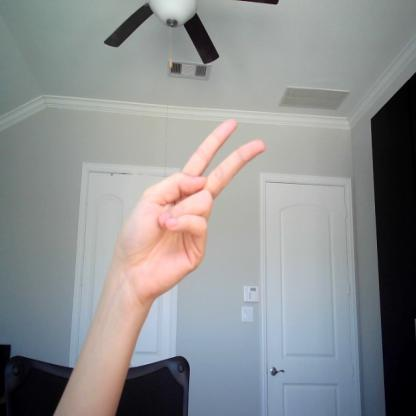K: (114, 118, 268, 308)
